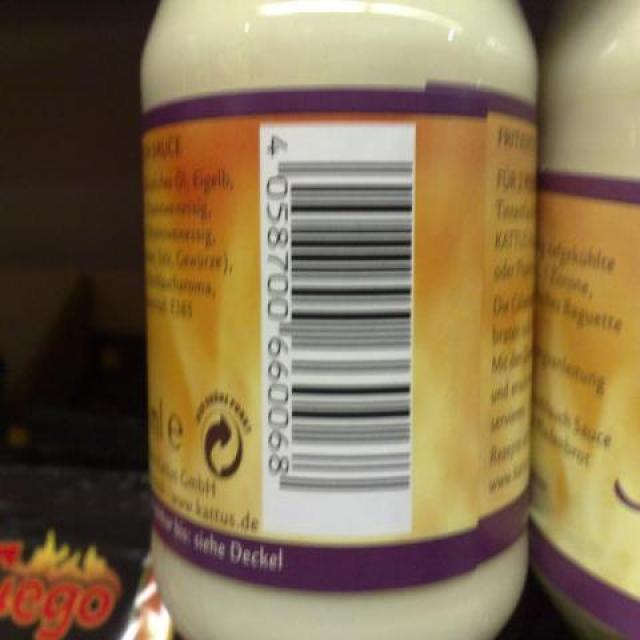Barcode: (259, 122, 414, 538)
